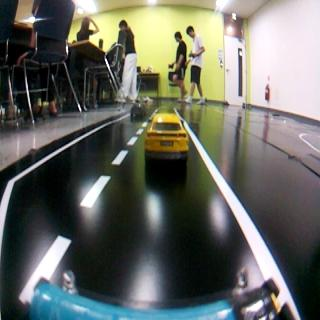car: (142, 109, 190, 176), (130, 98, 145, 122)
